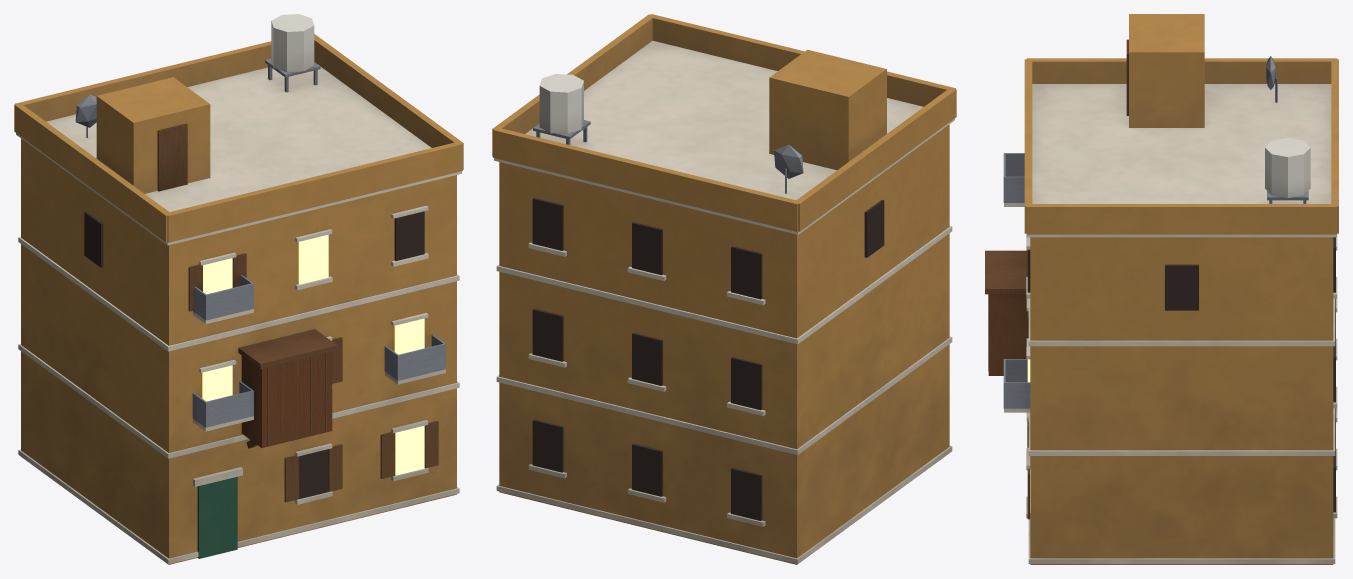
The model's file is hus_kairo_4_tex.glb.
3 renders of one model, left to right at view 1: azimuth 30°, elevation 25°; view 2: azimuth 150°, elevation 25°; view 3: azimuth 270°, elevation 25°, orthographic. The views are drawn at different scales.
Parts seen in each view (by area): view 1: hus_kairo_4; view 2: hus_kairo_4; view 3: hus_kairo_4.
Part boxes in pixels (box(x1,y1,x2,y2)): hus_kairo_4: box(14, 14, 463, 564); hus_kairo_4: box(492, 14, 956, 564); hus_kairo_4: box(985, 14, 1338, 564).
Size of the model in its own units: 9.3 by 12.05 by 9.35.
9 materials, 7 textured.
